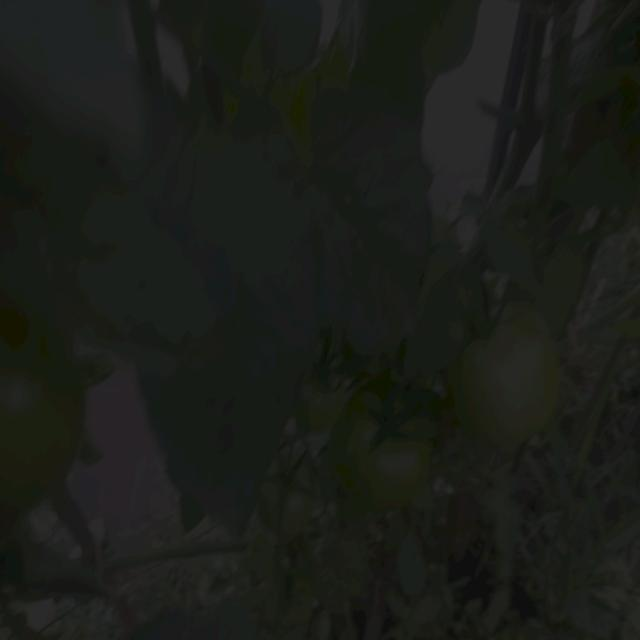tomato: (459, 307, 573, 440), (328, 387, 441, 505), (1, 363, 89, 502), (263, 443, 321, 533), (539, 237, 588, 313)
